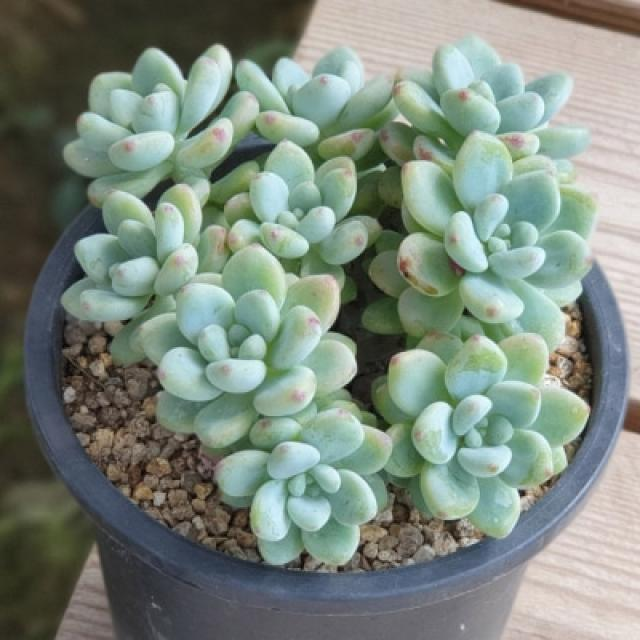LumiRose: (135, 245, 364, 463), (385, 132, 594, 349), (371, 332, 590, 537), (380, 35, 589, 188), (64, 46, 259, 206), (215, 408, 391, 565), (198, 140, 381, 289), (236, 46, 396, 170), (65, 185, 202, 321)
